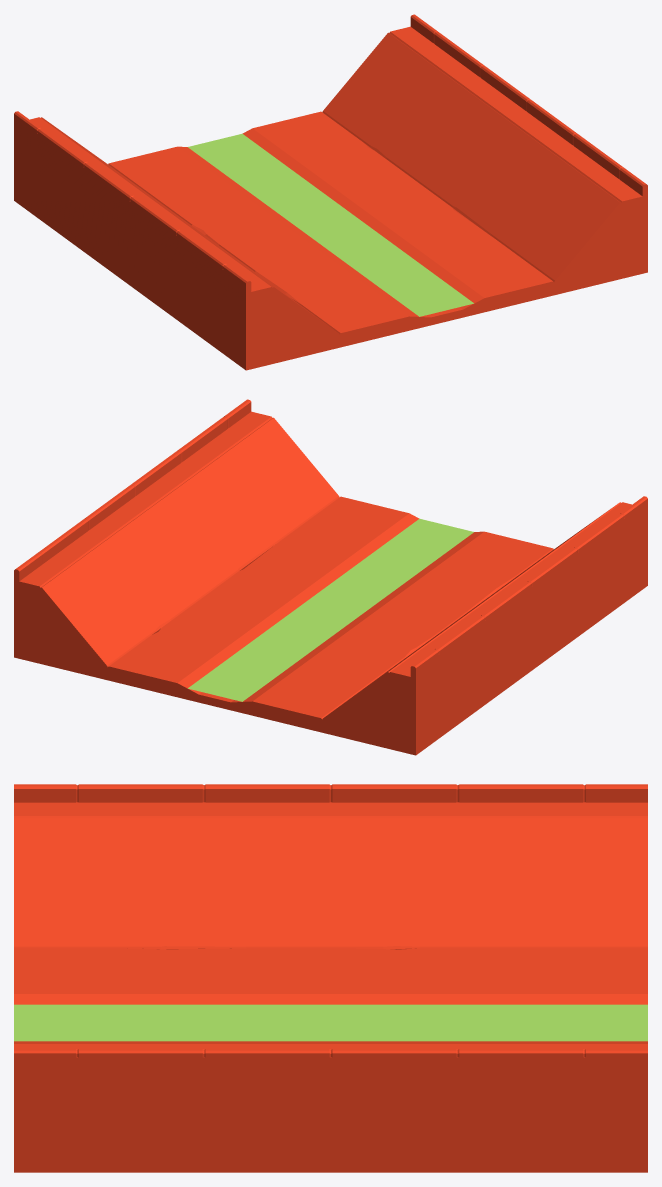
File: SM_Canal_Straight_A_City.fbx
3 views of the same model, one above another, from view 1: azimuth 30°, elevation 25°; view 2: azimuth 150°, elevation 25°; view 3: azimuth 270°, elevation 25° (orthographic). The views are drawn at different scales.
Parts seen in each view (by area): view 1: SM_Canal_Straight_A_City; view 2: SM_Canal_Straight_A_City; view 3: SM_Canal_Straight_A_City.
Boxes of the visible parts, x1,y1,x2,y2 form: SM_Canal_Straight_A_City: (14, 14, 647, 370); SM_Canal_Straight_A_City: (14, 399, 647, 755); SM_Canal_Straight_A_City: (14, 784, 647, 1172).
Bounding box in the file's own units: 30 × 6.32 × 30.
